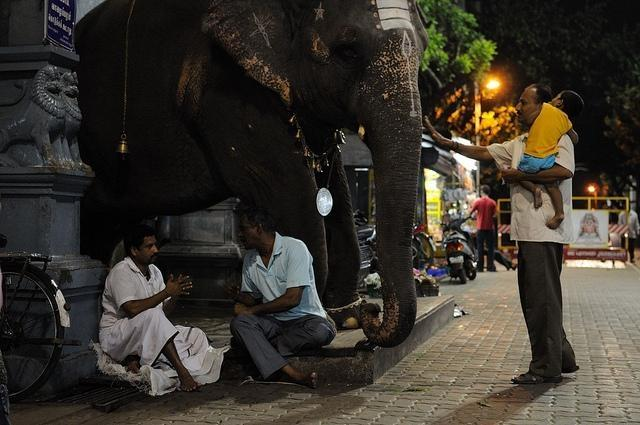bicycle: (1, 266, 62, 390), (356, 210, 438, 268)
motorcycle: (432, 217, 478, 284), (356, 226, 374, 287)
